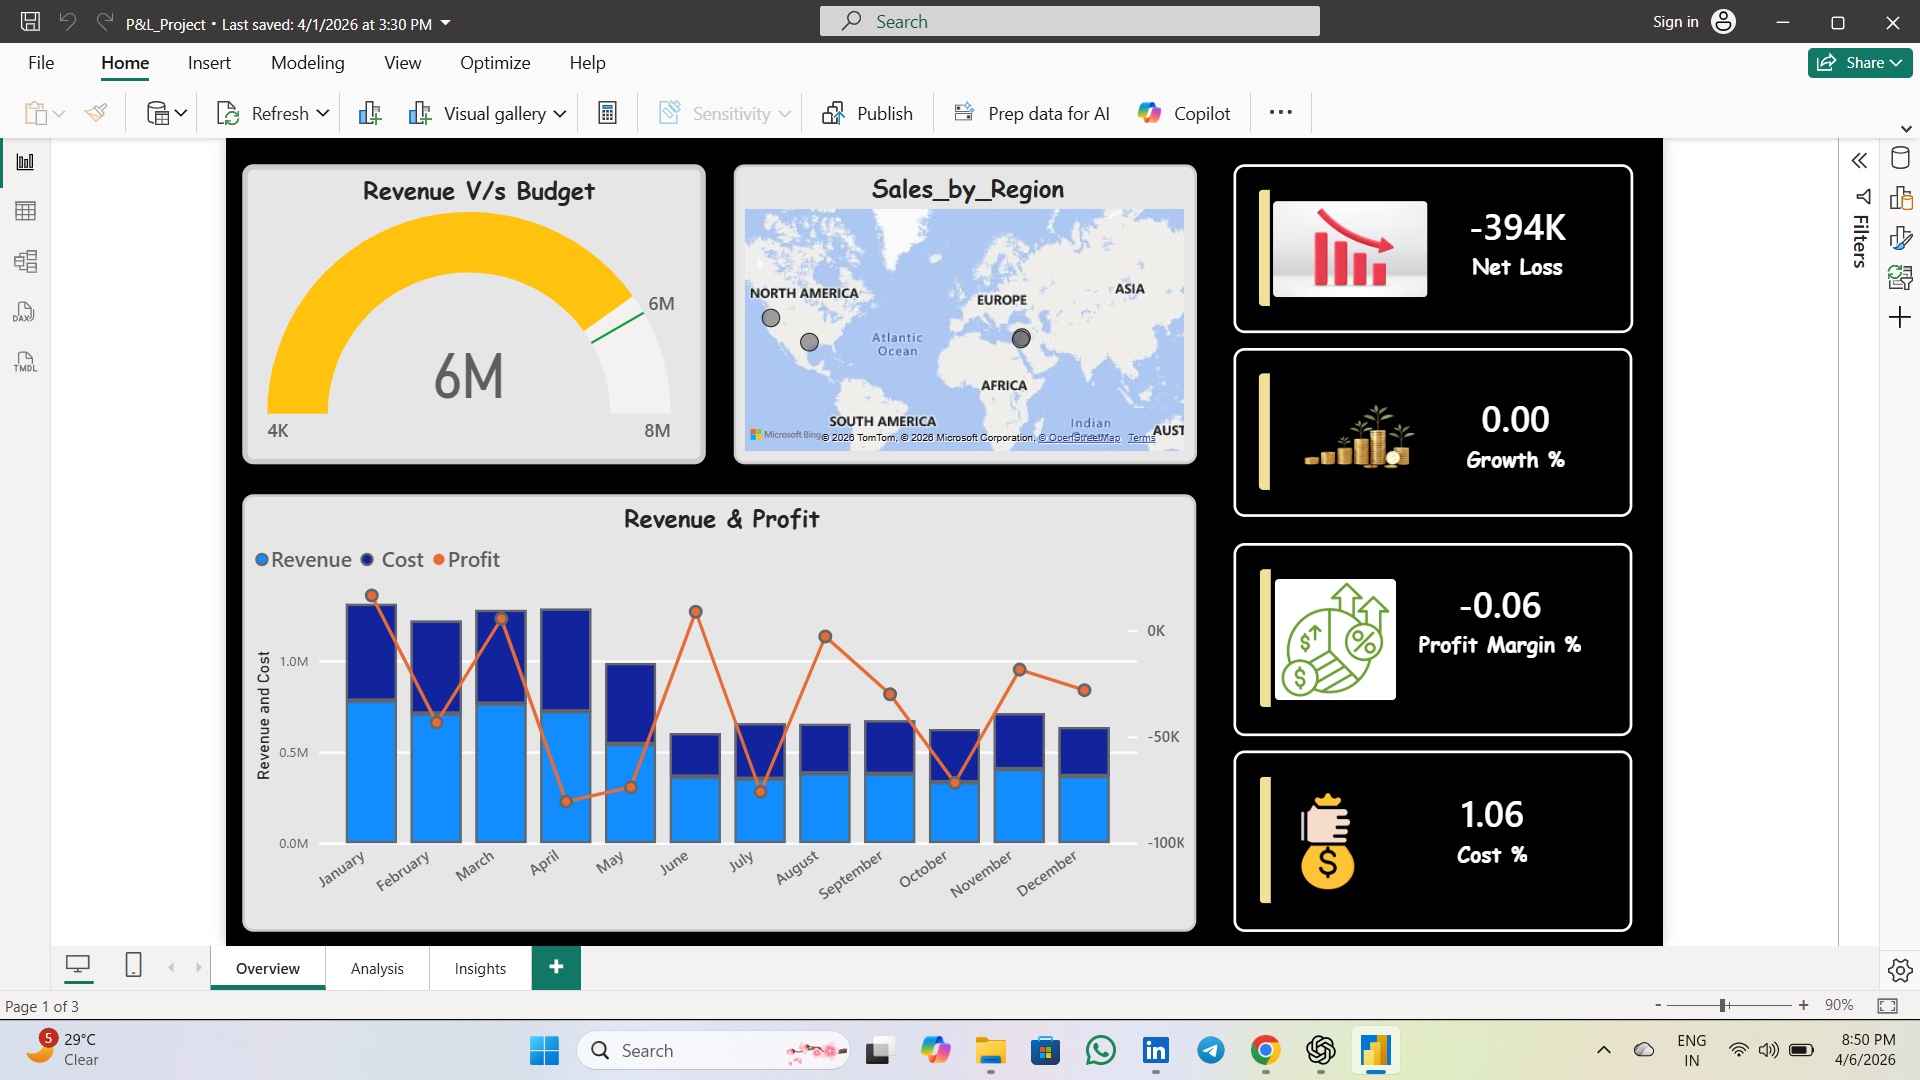

The dashboard page shown, as its layout file describes it:
{"tool":"powerbi","page":{"name":"Overview","canvas":[1280,720],"ordinal":0},"visuals":[{"type":"gauge","title":"Revenue V/s Budget","fields":{"Y":["Sum(P&L_Dataset.Revenue)"],"TargetValue":["Sum(P&L_Dataset.Budget_Revenue)"],"MinValue":["Min(P&L_Dataset.Budget_Revenue)"],"MaxValue":["Sum(P&L_Dataset.Gauge Max)"]},"box":[14.4,23.1,412.6,266.9],"z":0},{"type":"map","title":"Sales_by_Region","fields":{"Category":["P&L_Dataset.Region"],"Size":["Sum(P&L_Dataset.Revenue)"]},"box":[451.6,23.1,412.6,266.9],"z":1000},{"type":"lineStackedColumnComboChart","title":"Revenue & Profit","fields":{"Category":["P&L_Dataset.Date.Variation.Date Hierarchy.Year","P&L_Dataset.Date.Variation.Date Hierarchy.Month"],"Y":["Sum(P&L_Dataset.Revenue)","Sum(P&L_Dataset.Cost)"],"Y2":["Sum(P&L_Dataset.Profit)"]},"box":[14.4,317.4,849.8,389.5],"z":2000},{"type":"cardVisual","fields":{"Data":["P&L_Dataset.Net Profit"]},"box":[897.4,23.1,356.4,150],"z":3000},{"type":"cardVisual","fields":{"Data":["P&L_Dataset.Growth %"]},"box":[897.4,187.6,354.9,150],"z":4000},{"type":"cardVisual","fields":{"Data":["P&L_Dataset.Profit Margin %"]},"box":[897.4,360.7,354.9,171.7],"z":5000},{"type":"cardVisual","fields":{"Data":["P&L_Dataset.Cost %"]},"box":[897.4,545.4,354.9,161.6],"z":6000}]}

Visuals, with their boxes on the page's 1280x720 design canvas (x1, y1, x2, y2). These are canvas units, not pixel positions in the 1920x1080 screenshot, which may show the page scaled, cropped or inside an application window:
"Revenue V/s Budget" gauge: bbox(14, 23, 427, 290)
"Sales_by_Region" map: bbox(452, 23, 864, 290)
"Revenue & Profit" lineStackedColumnComboChart: bbox(14, 317, 864, 707)
cardVisual - P&L_Dataset.Net Profit: bbox(897, 23, 1254, 173)
cardVisual - P&L_Dataset.Growth %: bbox(897, 188, 1252, 338)
cardVisual - P&L_Dataset.Profit Margin %: bbox(897, 361, 1252, 532)
cardVisual - P&L_Dataset.Cost %: bbox(897, 545, 1252, 707)
